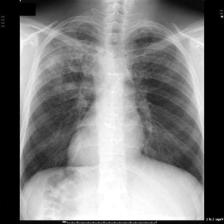tuberculosis: (20, 11, 204, 220)
